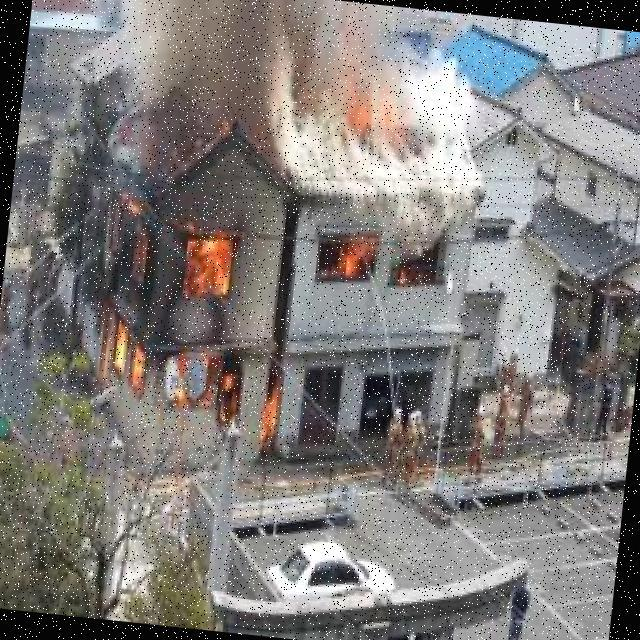Fire: (69, 173, 310, 452), (322, 39, 431, 160), (316, 220, 448, 299)
